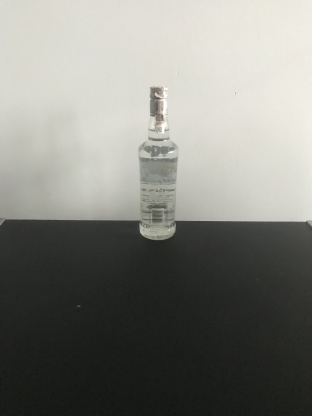nakretka: (147, 83, 170, 117)
